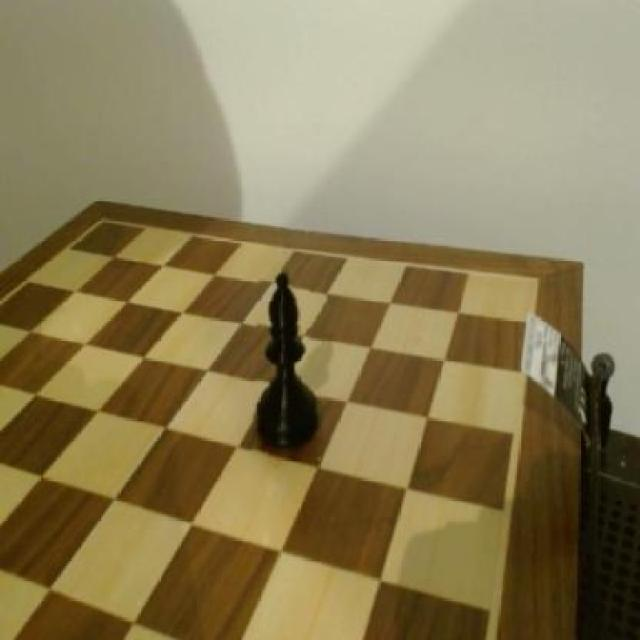bishop: (254, 271, 326, 459)
